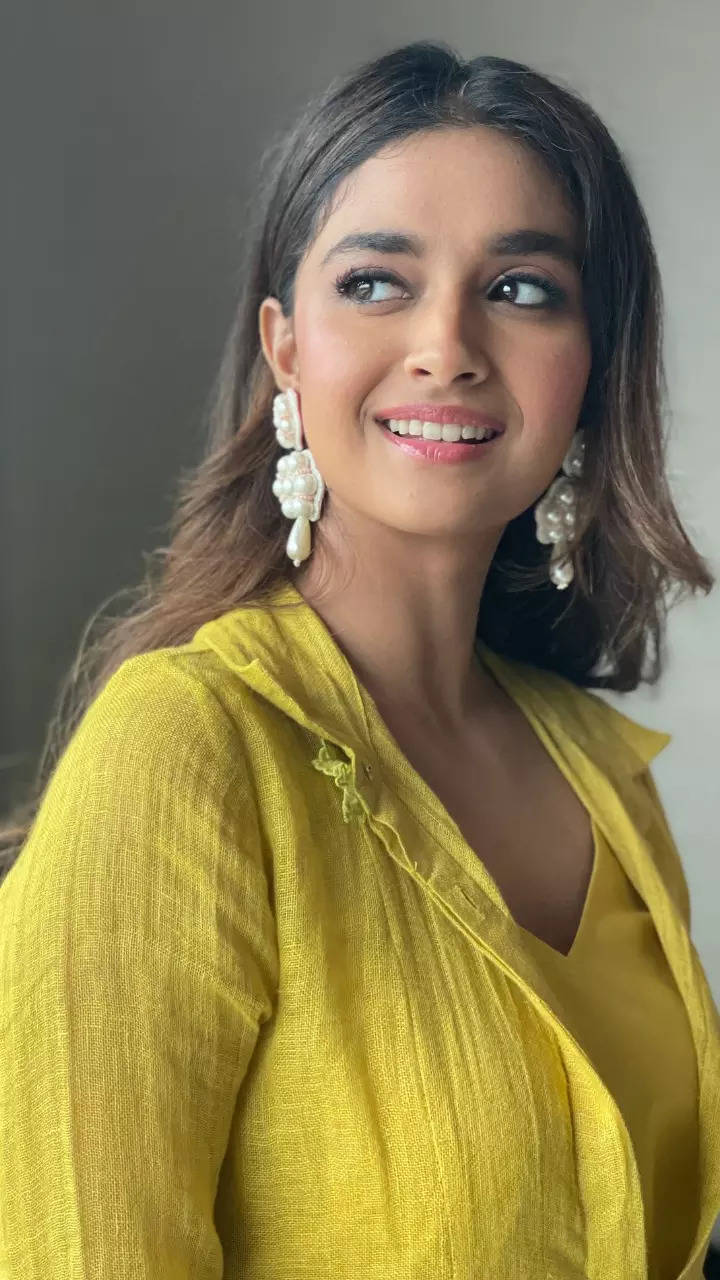NoMask: (301, 200, 593, 533)
